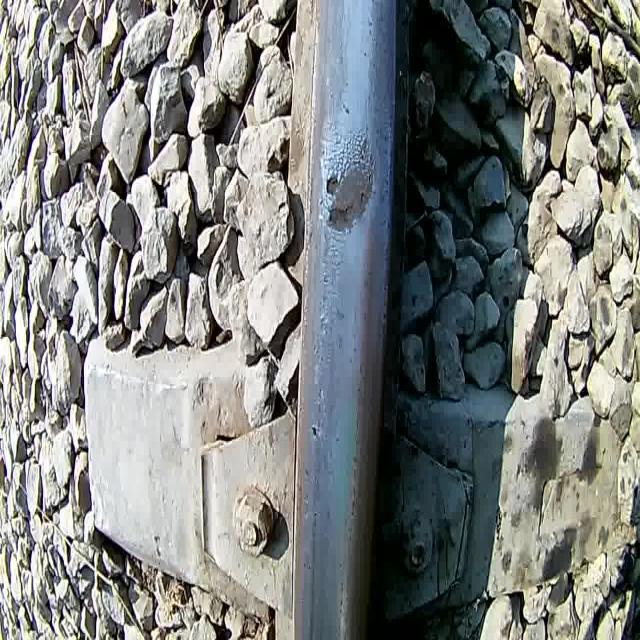Squats: (319, 125, 381, 243)
